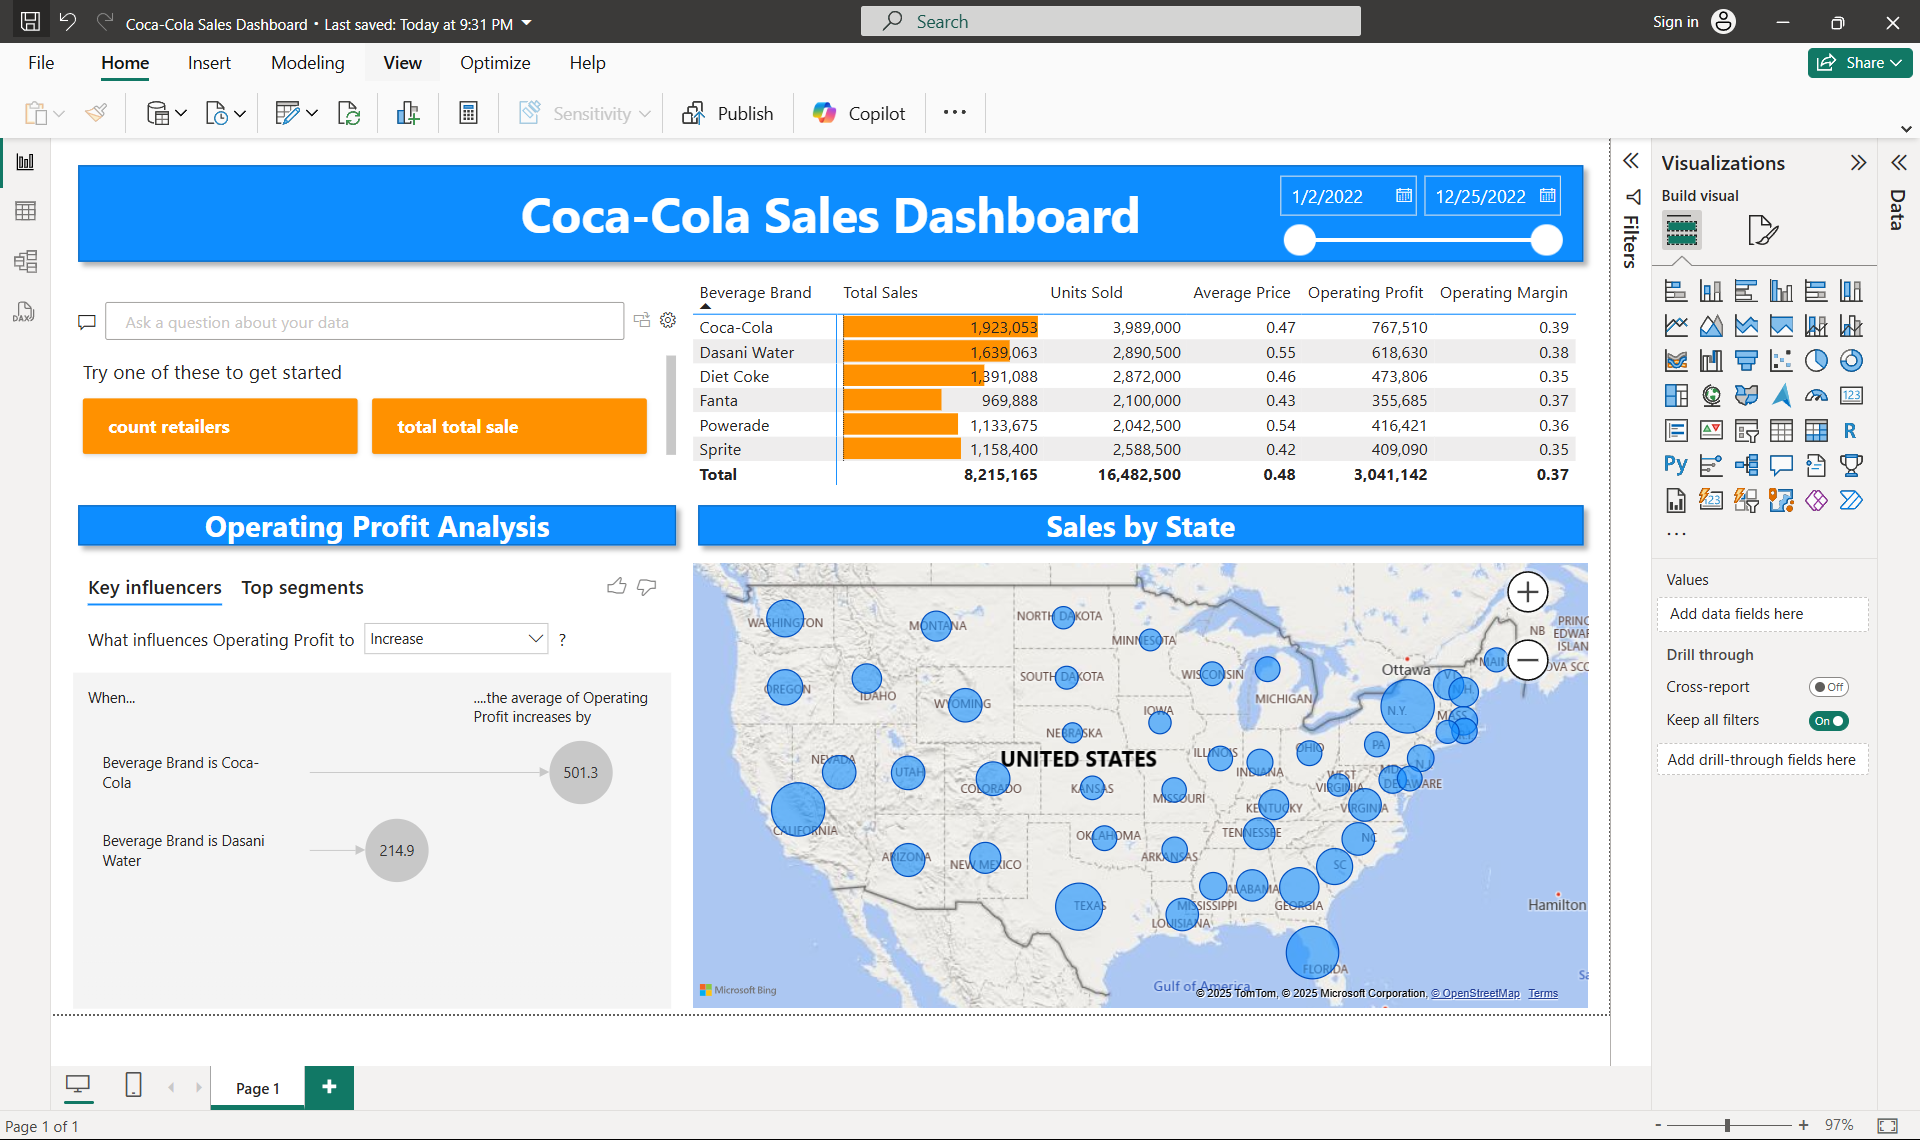

This screenshot's page, from the dashboard's own definition file:
{"tool":"powerbi","page":{"name":"Page 1","canvas":[1280,720],"ordinal":0},"visuals":[{"type":"shape","box":[13.1,13.1,1254.1,97.3],"z":0},{"type":"shape","box":[13.1,292.9,509,51],"z":1000},{"type":"shape","box":[522.1,292.9,745.1,51],"z":2000},{"type":"qnaVisual","box":[13.1,110.3,509,182.7],"z":3000},{"type":"keyDriversVisual","fields":{"Target":["Data.Operating Profit"],"ExplainBy":["Data.Beverage Brand"]},"box":[13.1,344.1,500.7,376.1],"z":4000},{"type":"map","fields":{"Category":["Data.State"],"Size":["Sum(Data.Total Sales)"]},"box":[522.1,344.2,745.4,375.6],"z":5000},{"type":"pivotTable","fields":{"Rows":["Data.Beverage Brand"],"Values":["Sum(Data.Total Sales)","Sum(Data.Units Sold)","Avg(Data.Price per Unit)","Sum(Data.Operating Profit)","Avg(Data.Operating Margin)"]},"box":[522.1,110.5,737.2,182.6],"z":6000},{"type":"slicer","fields":{"Values":["Data.Invoice Date"]},"box":[996.5,20.9,252.3,81.4],"z":7000}]}

Visuals, with their boxes on the page's 1280x720 design canvas (x1, y1, x2, y2). These are canvas units, not pixel positions in the 1920x1140 screenshot, which may show the page scaled, cropped or inside an application window:
shape: rect(13, 13, 1267, 110)
shape: rect(13, 293, 522, 344)
shape: rect(522, 293, 1267, 344)
qnaVisual: rect(13, 110, 522, 293)
keyDriversVisual - Data.Operating Profit x Data.Beverage Brand: rect(13, 344, 514, 720)
map - Data.State x Sum(Data.Total Sales): rect(522, 344, 1268, 720)
pivotTable - Data.Beverage Brand x Sum(Data.Total Sales): rect(522, 110, 1259, 293)
slicer - Data.Invoice Date: rect(996, 21, 1249, 102)
